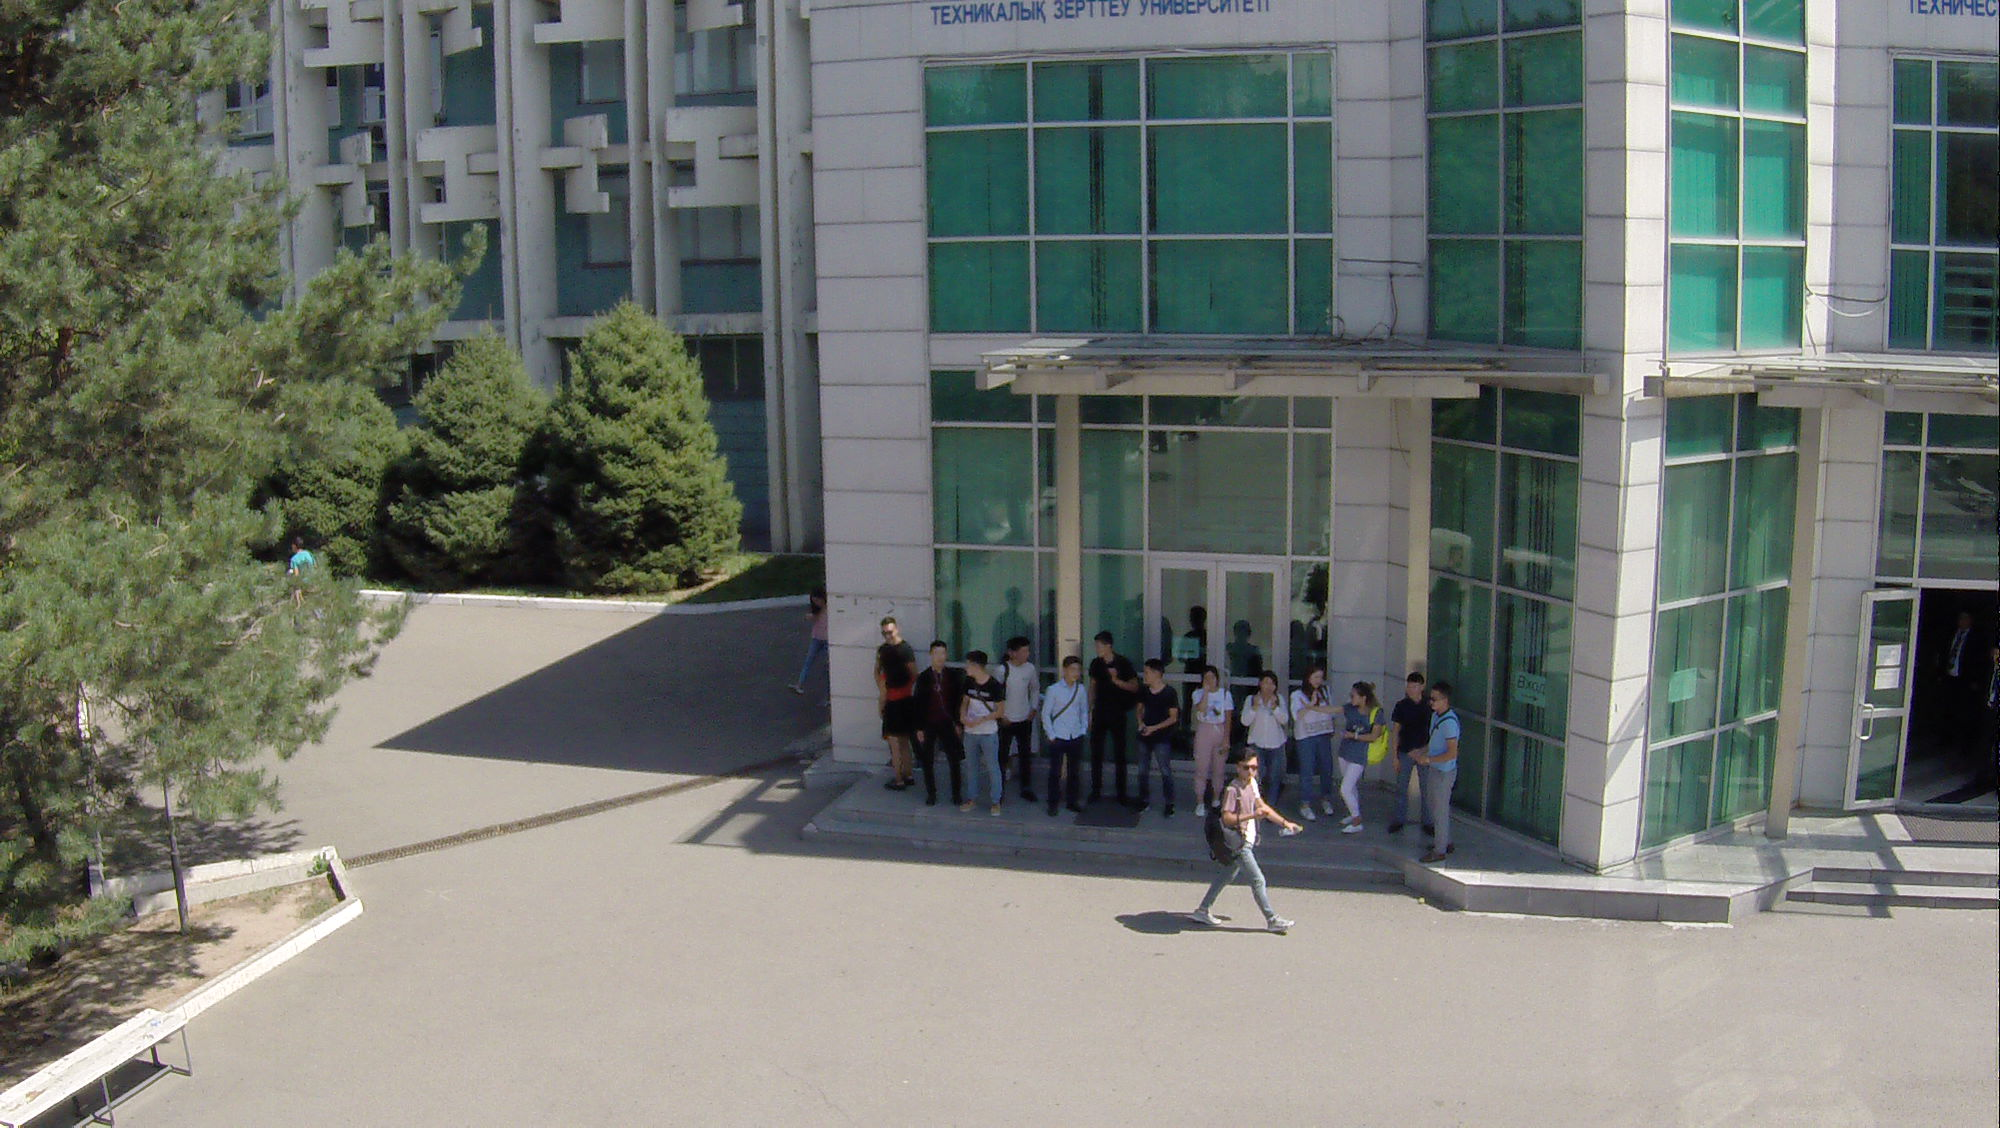person: (1183, 755, 1276, 938), (1318, 677, 1394, 843), (1081, 627, 1140, 812), (991, 637, 1049, 814), (1041, 652, 1095, 823), (1186, 656, 1239, 822), (1245, 667, 1295, 829), (918, 641, 965, 812), (1134, 658, 1183, 825), (1290, 671, 1340, 827), (1389, 674, 1433, 847), (960, 646, 999, 825), (1425, 699, 1464, 864), (872, 654, 917, 797), (795, 585, 832, 709)
